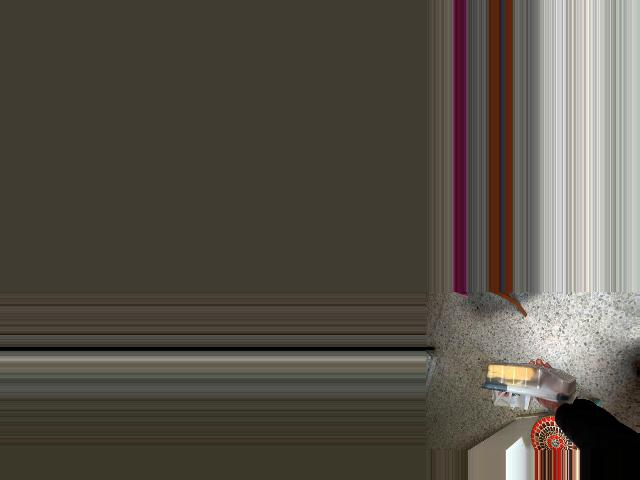cheese: (484, 361, 574, 403)
